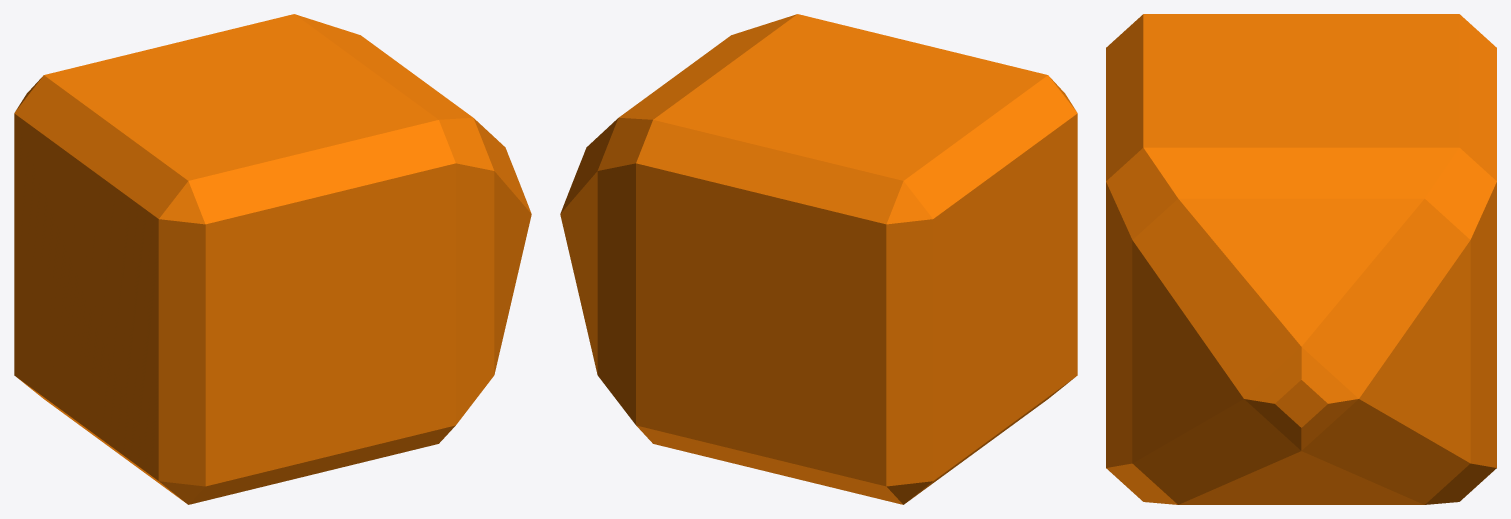
File: MenuSelectBit.fbx
3 renders of one model, left to right at view 1: azimuth 30°, elevation 25°; view 2: azimuth 150°, elevation 25°; view 3: azimuth 270°, elevation 25°, orthographic. The views are drawn at different scales.
Visible parts, largest first — view 1: Cube; view 2: Cube; view 3: Cube.
Boxes of the visible parts, box(x1,y1,x2,y2) form: Cube: box(14, 14, 531, 504); Cube: box(560, 14, 1077, 504); Cube: box(1106, 14, 1496, 504).
Size of the model in its own units: 277 by 200 by 200.
